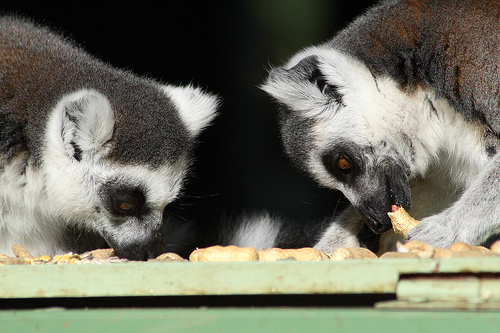cat: (260, 1, 499, 250), (0, 12, 222, 274)
